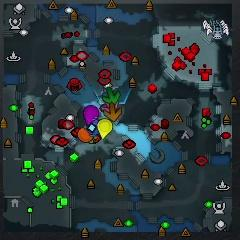p1: (88, 120, 98, 136)
p3: (83, 104, 101, 125)
p4: (97, 118, 112, 140)
p5: (78, 127, 93, 143)
x1: (100, 102, 122, 112)
x4: (103, 86, 121, 104)
x5: (104, 102, 122, 122)
